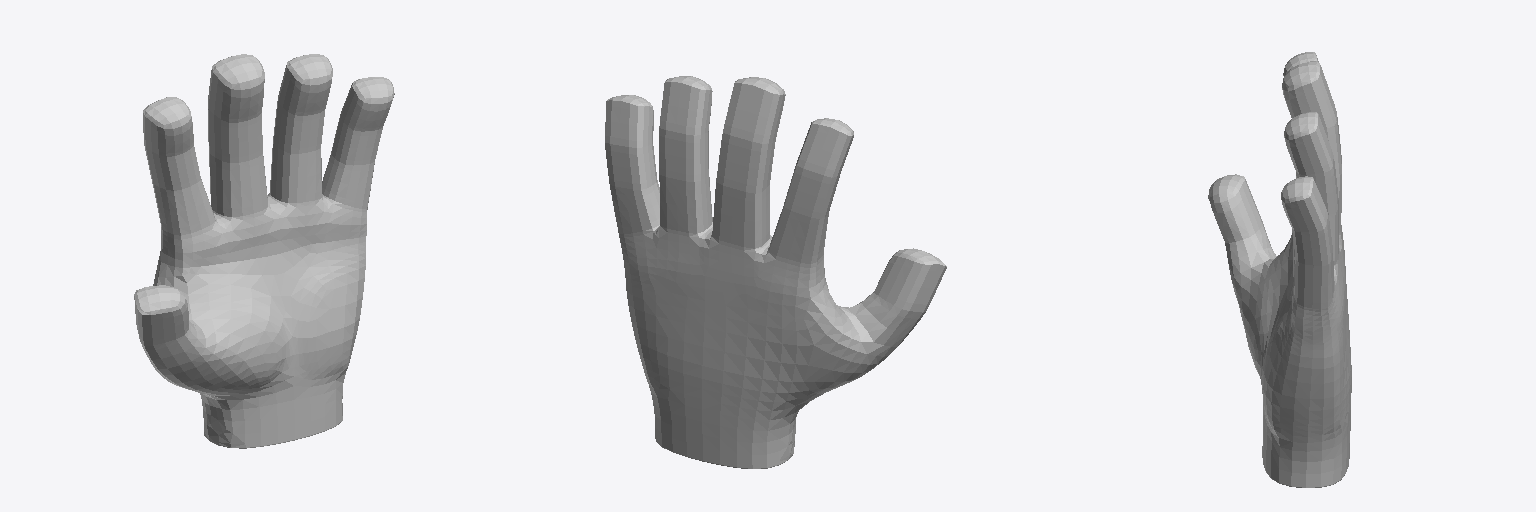
Rendered from Mano.obj.
The picture shows the model from 3 angles: view 1: azimuth 30°, elevation 25°; view 2: azimuth 150°, elevation 25°; view 3: azimuth 270°, elevation 25°; orthographic projection.
Visible parts, largest first — view 1: Mano; view 2: Mano; view 3: Mano.
Boxes of the visible parts, x1=… form: Mano: x1=134, y1=54, x2=394, y2=448; Mano: x1=605, y1=76, x2=946, y2=468; Mano: x1=1208, y1=52, x2=1351, y2=487.
Bounding box in the file's own units: 3.18 × 3.86 × 1.33.